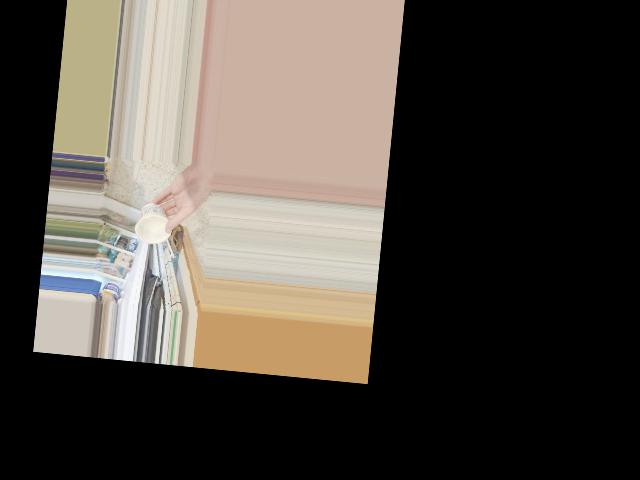cotage: (135, 202, 170, 243)
